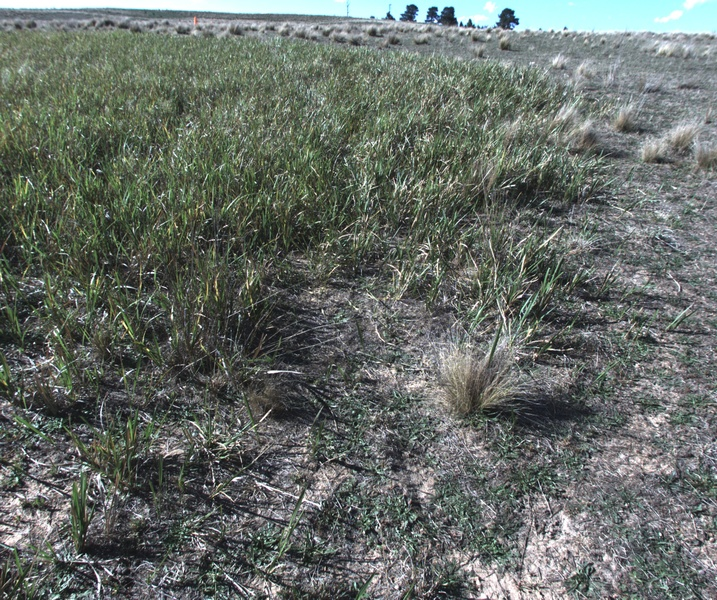st: (425, 328, 536, 428), (561, 119, 598, 154), (664, 120, 696, 151), (609, 101, 639, 134), (555, 95, 580, 127), (638, 139, 674, 160), (572, 59, 594, 84), (547, 50, 570, 73), (642, 77, 665, 98), (700, 144, 717, 171), (603, 61, 619, 89), (465, 44, 488, 59), (226, 20, 245, 38), (498, 34, 514, 54), (413, 32, 433, 47), (348, 35, 370, 48), (386, 31, 401, 50), (116, 17, 133, 31), (129, 20, 146, 33), (333, 32, 353, 43), (365, 23, 380, 36), (294, 28, 310, 40), (278, 24, 291, 36)
